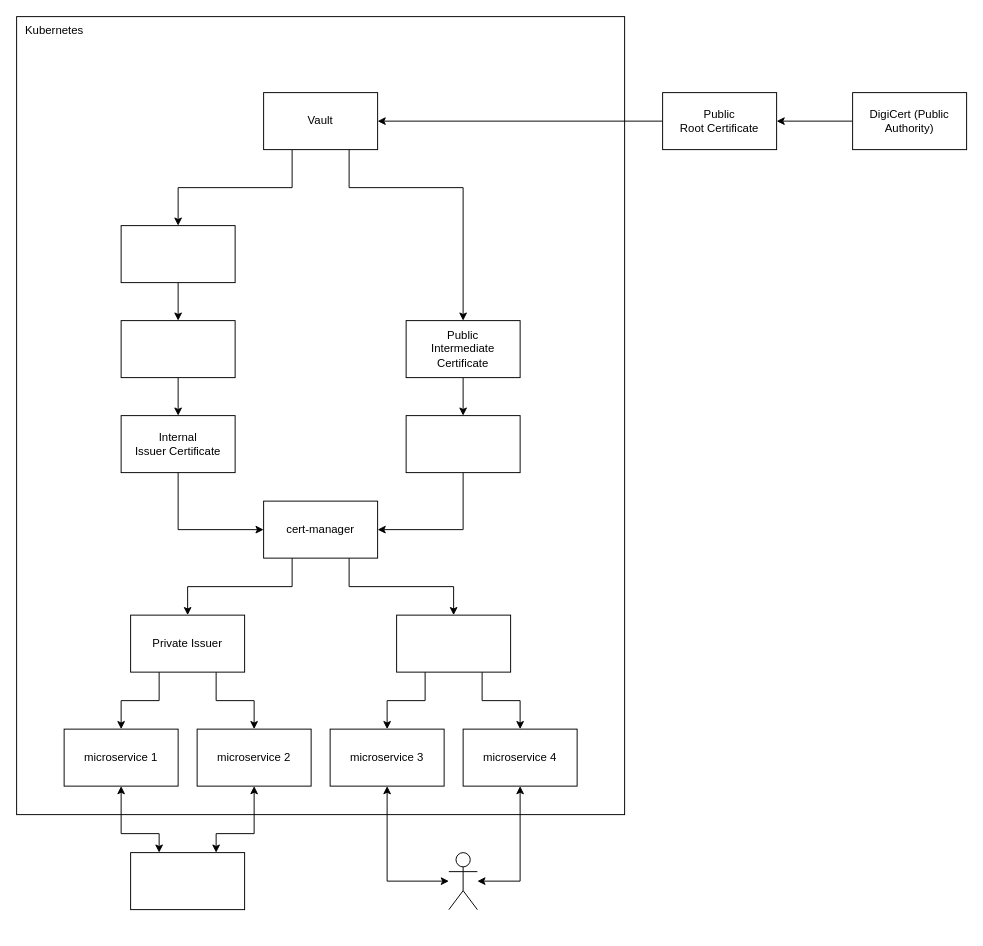
This 983x946 diagram has some shape labels left out. Each missing label, with the centre of its shape:
"Internal Intermediate Certificate" belongs at (x=177, y=349).
"Internal Root Certificate" belongs at (x=177, y=254).
"Private System" belongs at (x=187, y=881).
"Public Issuer" belongs at (x=453, y=643).
"Public Issuer Certificate" belongs at (x=462, y=444).
"user" belongs at (x=462, y=881).
